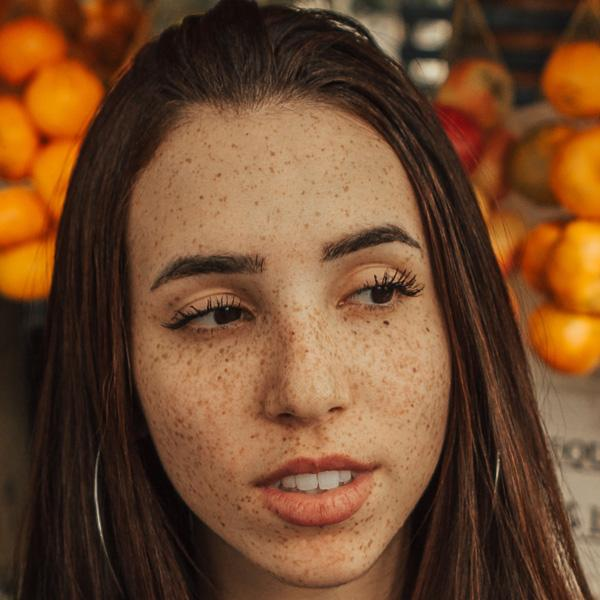Eyes: (165, 282, 264, 346), (336, 258, 420, 324)
